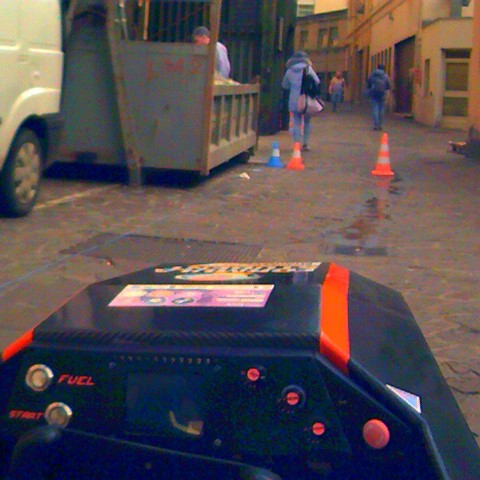cone: (267, 141, 283, 168)
